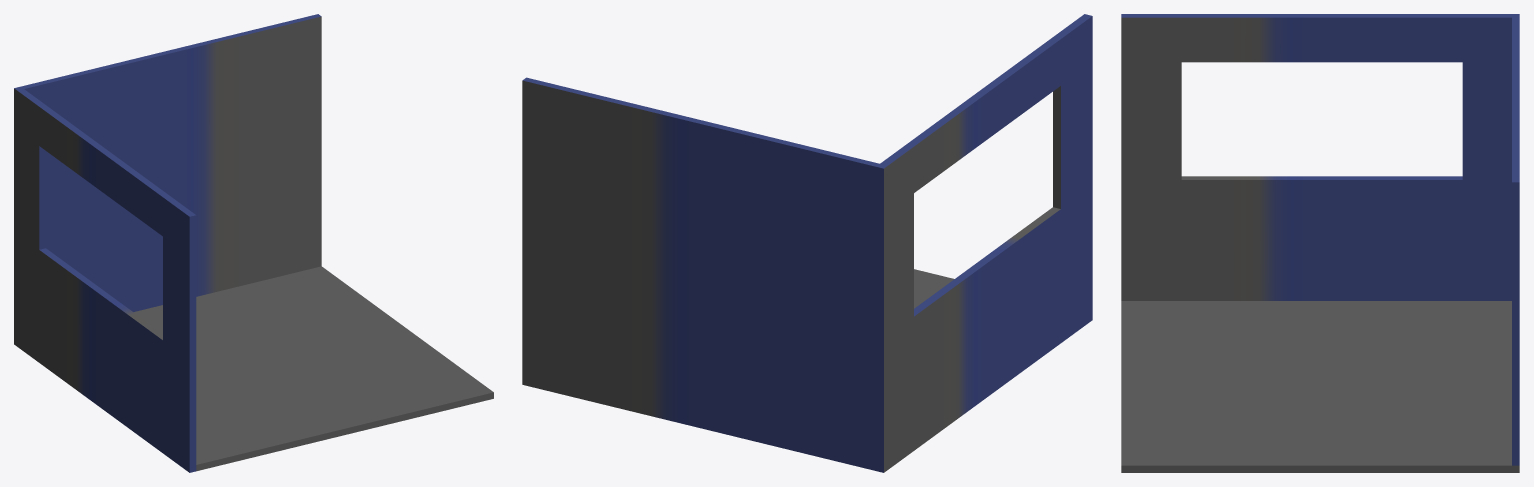
File: Office_Base.fbx
The picture shows the model from 3 angles, left to right: view 1: azimuth 30°, elevation 25°; view 2: azimuth 150°, elevation 25°; view 3: azimuth 270°, elevation 25°; orthographic projection. The views are drawn at different scales.
Visible parts, largest first — view 1: Office_Base; view 2: Office_Base; view 3: Office_Base.
Part boxes in pixels (x1=…): Office_Base: x1=14, y1=14, x2=493, y2=472; Office_Base: x1=522, y1=14, x2=1092, y2=472; Office_Base: x1=1121, y1=14, x2=1519, y2=472.
Bounding box in the file's own units: 500 × 402 × 500.
